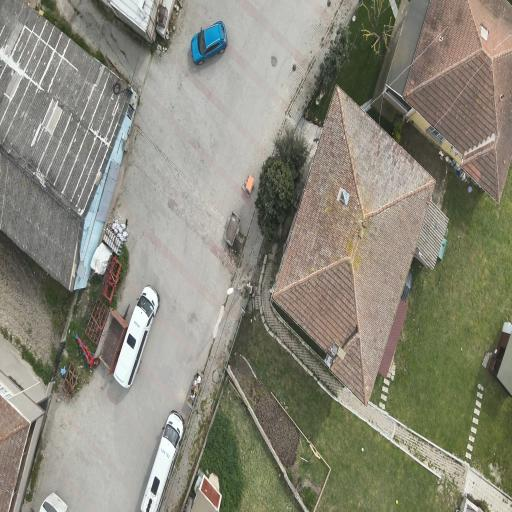car: (114, 286, 159, 387), (141, 411, 184, 511), (191, 21, 227, 64), (40, 493, 67, 511)
